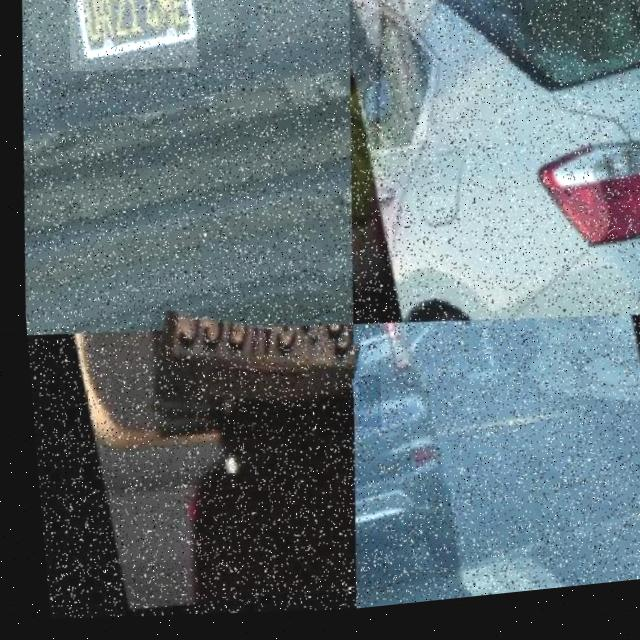LicensePlate: (145, 314, 353, 441), (63, 0, 202, 81), (341, 380, 377, 437), (454, 328, 464, 335)
